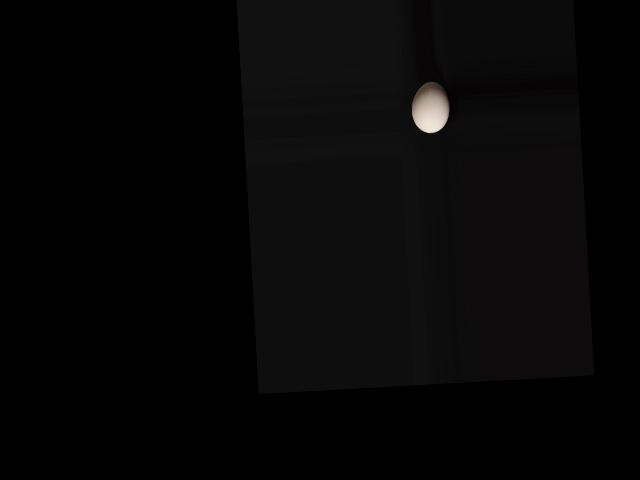egg: (410, 81, 450, 134)
